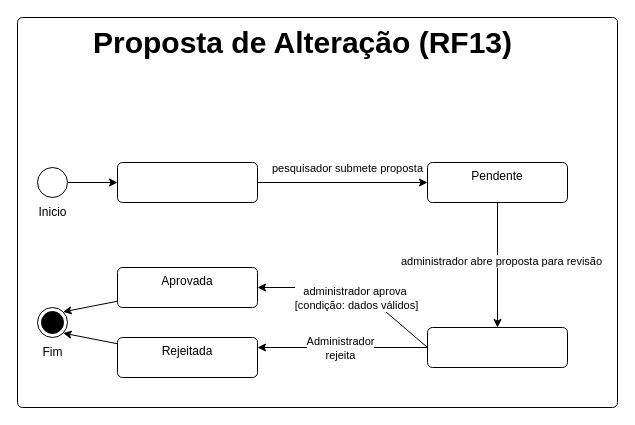
This 635x425 diagram has some shape labels left out. The box of each missing label's shape, as (x1, y1, x2, y2) in pixels:
Em Análise: (426, 326, 568, 368)
Estado inicial: (116, 162, 258, 202)
